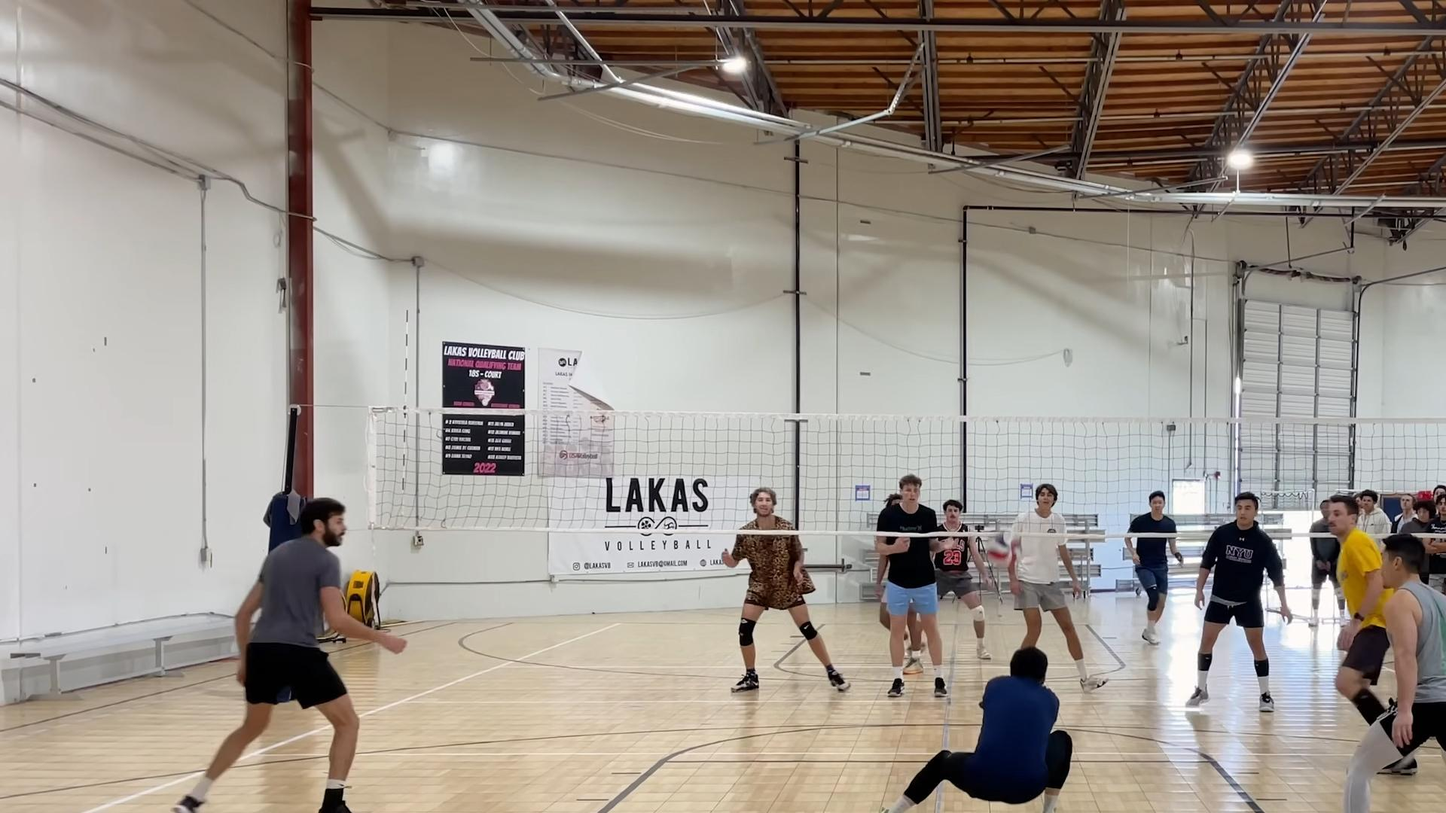ricezione: (883, 645, 1089, 813)
